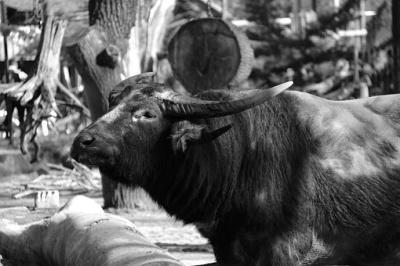buffalo: (70, 74, 400, 266)
